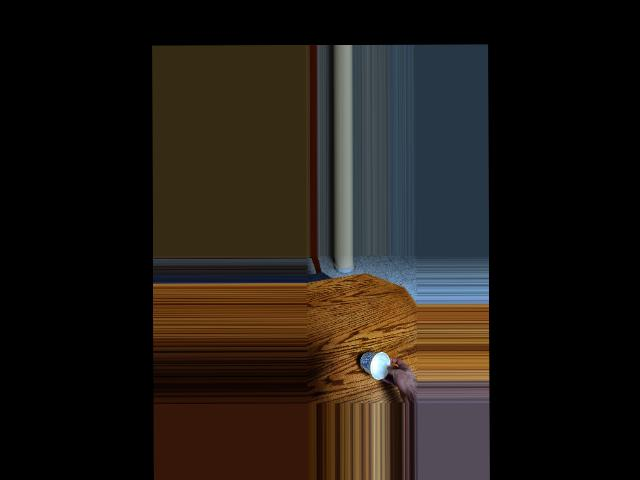cotage: (361, 352, 391, 374)
